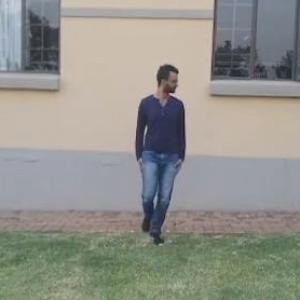follow: (134, 61, 188, 245)
